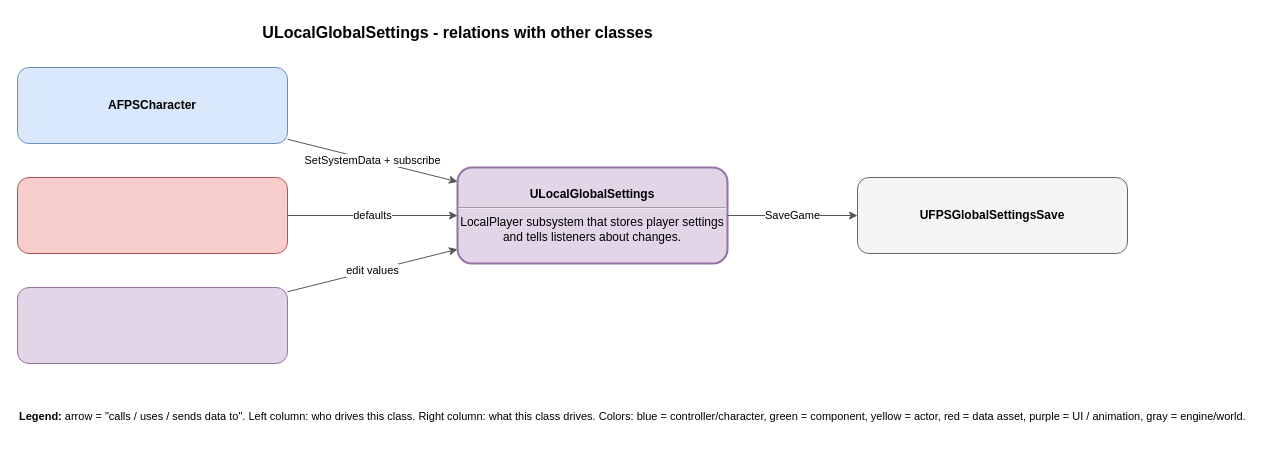
Some shapes in this 1264 by 460 pixel diagram are drawn without their labels. The box of each missing label's shape, as (x1, y1, x2, y2) in pixels:
GameplaySettingsWidget: (16, 286, 288, 364)
USystemData: (16, 176, 288, 254)
